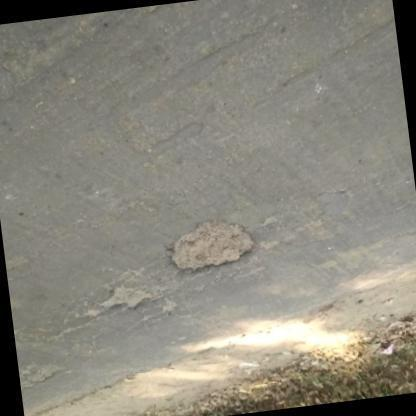pothole: (165, 220, 257, 274), (94, 284, 158, 318), (18, 364, 60, 391)
